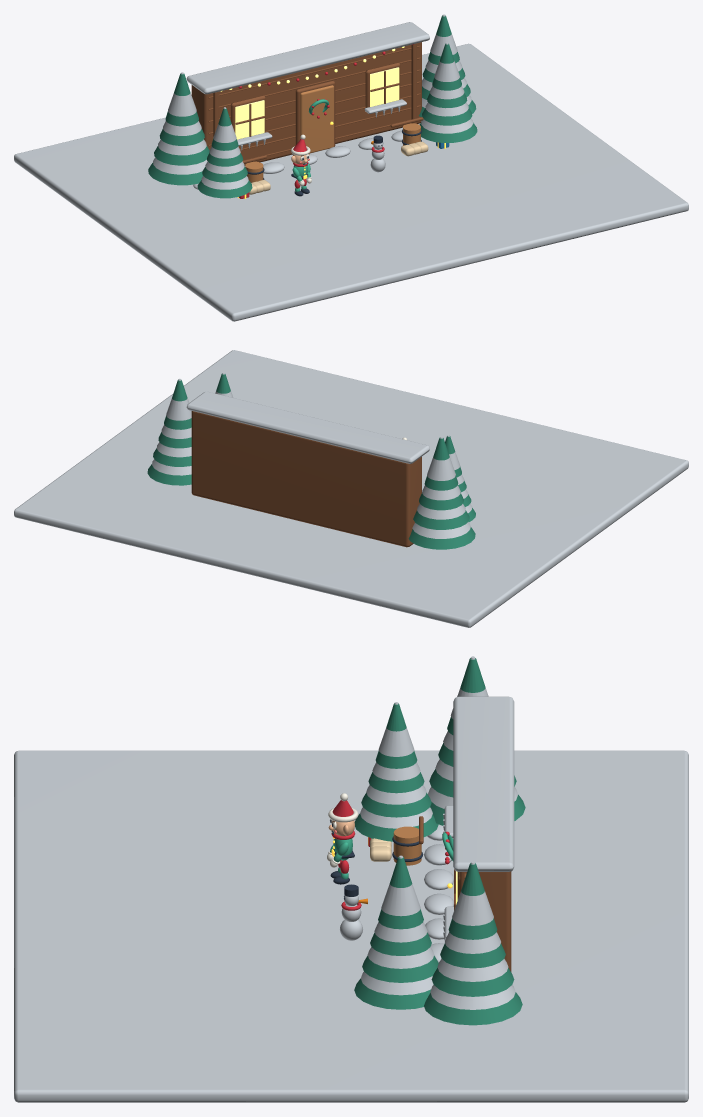
Rendered from chapter-02.glb.
3 renders of one model, top to bottom at view 1: azimuth 30°, elevation 25°; view 2: azimuth 150°, elevation 25°; view 3: azimuth 270°, elevation 25°, orthographic. The views are drawn at different scales.
Parts seen in each view (by area): view 1: Schneeboden, Werkstatt, Schneegesims, Wichteltür, Warmes Fenster, Warmes Fenster.001, Tannenzweig.008, Tannenzweig.009, Türrahmen, Tannenzweig.011, Tannenzweig.004, Schnee.011 (+6 smaller); view 2: Schneeboden, Werkstatt, Schneegesims, Tannenzweig.008, Tannenzweig.009, Tannenzweig.011, Schnee.008, Schnee.011, Tannenzweig.015, Tannenzweig.012, Tannenzweig.010, Schnee.009 (+1 smaller); view 3: Schneeboden, Schneegesims, Werkstatt, Tannenzweig.012, Tannenzweig.013, Tannenzweig.015, Schnee.012, Tannenzweig.005, Tannenzweig.004, Schnee.015, Tannenzweig.007, Schnee.013 (+16 smaller).
Boxes of the visible parts, <box> form: Schneeboden: <box>14,43,688,321</box>; Werkstatt: <box>191,42,421,165</box>; Schneegesims: <box>186,22,429,94</box>; Wichteltür: <box>300,85,333,153</box>; Warmes Fenster: <box>235,100,264,139</box>; Warmes Fenster.001: <box>370,67,399,106</box>; Tannenzweig.008: <box>148,163,202,185</box>; Tannenzweig.009: <box>154,146,209,165</box>; Türrahmen: <box>295,81,335,146</box>; Tannenzweig.011: <box>165,73,198,126</box>; Tannenzweig.004: <box>419,122,477,142</box>; Schnee.011: <box>168,72,196,116</box>; Schneeboden: <box>14,350,688,627</box>; Werkstatt: <box>191,411,421,547</box>; Schneegesims: <box>186,391,429,463</box>; Tannenzweig.008: <box>408,527,475,549</box>; Tannenzweig.009: <box>413,510,469,529</box>; Tannenzweig.011: <box>424,437,458,490</box>; Schnee.008: <box>412,522,470,538</box>; Schnee.011: <box>427,436,455,480</box>; Tannenzweig.015: <box>164,380,191,429</box>; Tannenzweig.012: <box>147,464,191,485</box>; Tannenzweig.010: <box>419,493,463,510</box>; Schnee.009: <box>417,504,465,519</box>; Schneeboden: <box>14,750,688,1102</box>; Schneegesims: <box>453,696,514,871</box>; Werkstatt: <box>466,871,511,971</box>; Tannenzweig.012: <box>424,992,522,1025</box>; Tannenzweig.013: <box>431,968,514,996</box>; Tannenzweig.015: <box>448,863,497,939</box>; Schnee.012: <box>430,985,515,1009</box>; Tannenzweig.005: <box>362,955,438,982</box>; Tannenzweig.004: <box>354,978,430,1009</box>; Schnee.015: <box>452,861,493,925</box>; Tannenzweig.007: <box>378,857,423,929</box>; Schnee.013: <box>437,959,508,981</box>.
Size of the model in its own units: 18 by 4.39 by 15.
